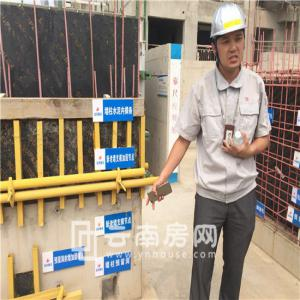white: (207, 2, 251, 74)
